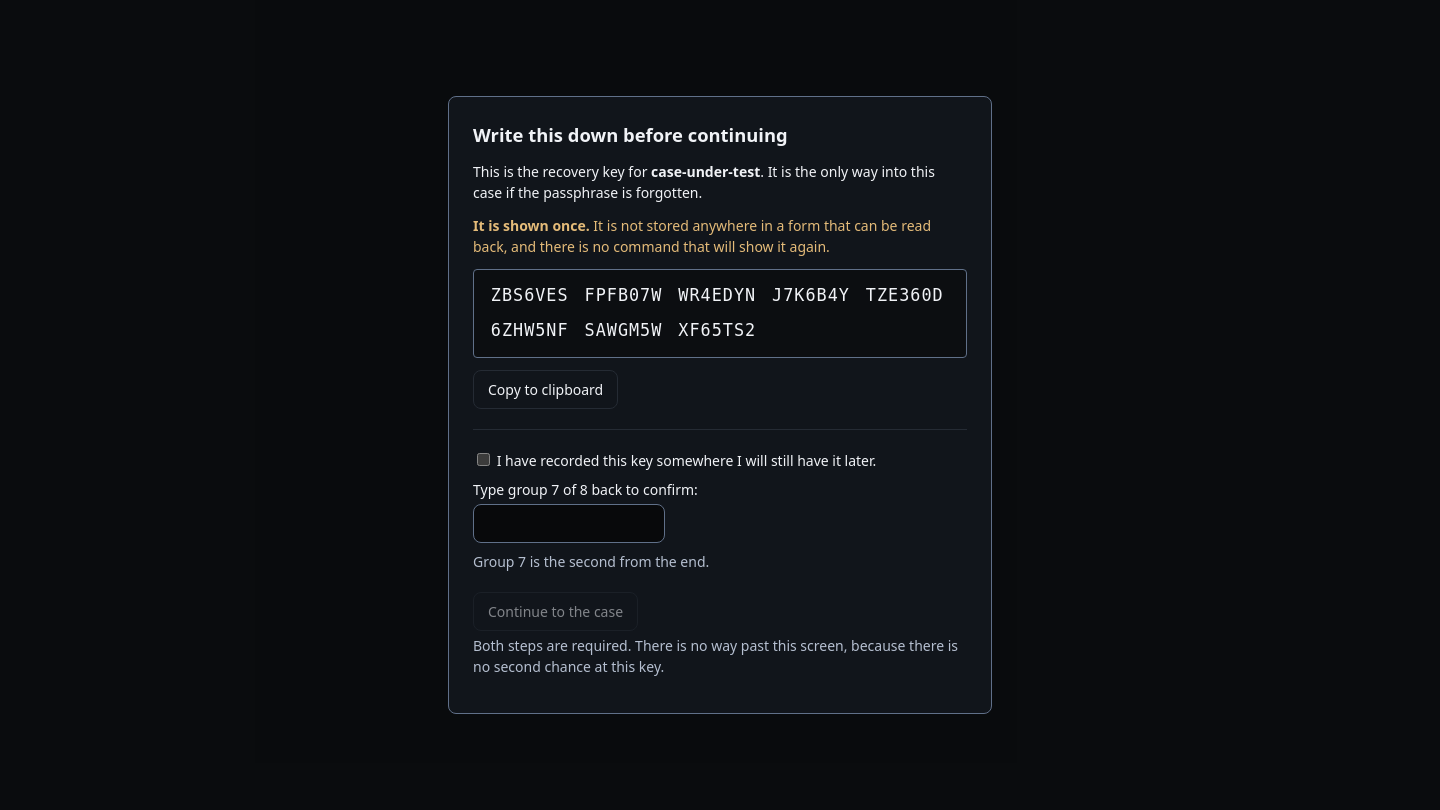
Test: the recovery key gate › accepts the group in lower case and with read-alike characters
Click the checkbox: (484, 459) [477,453,490,466]
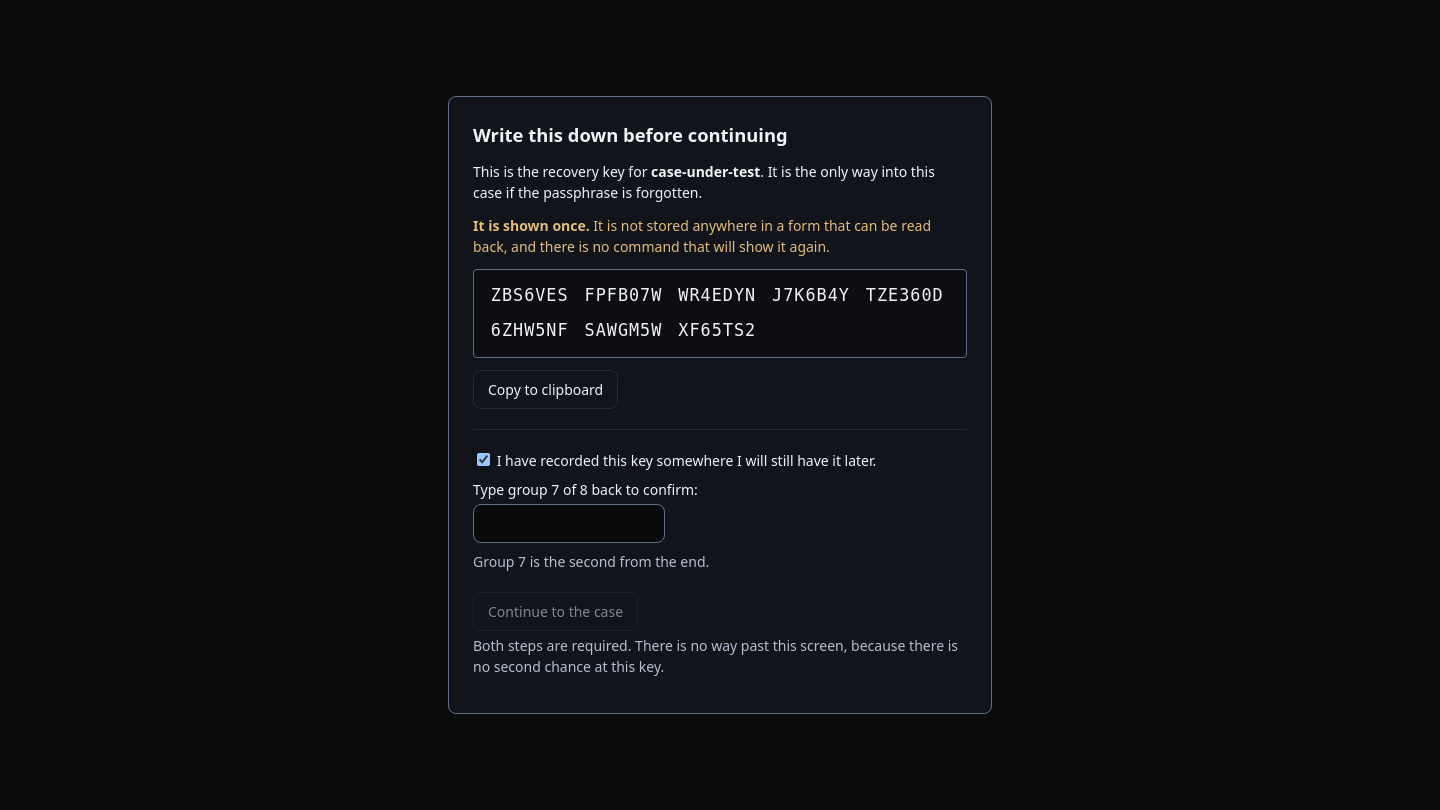
In the field labelled "Type group 7 of 8 back to confirm:": (569, 523) [473,504,665,543], type "sawgm5w"
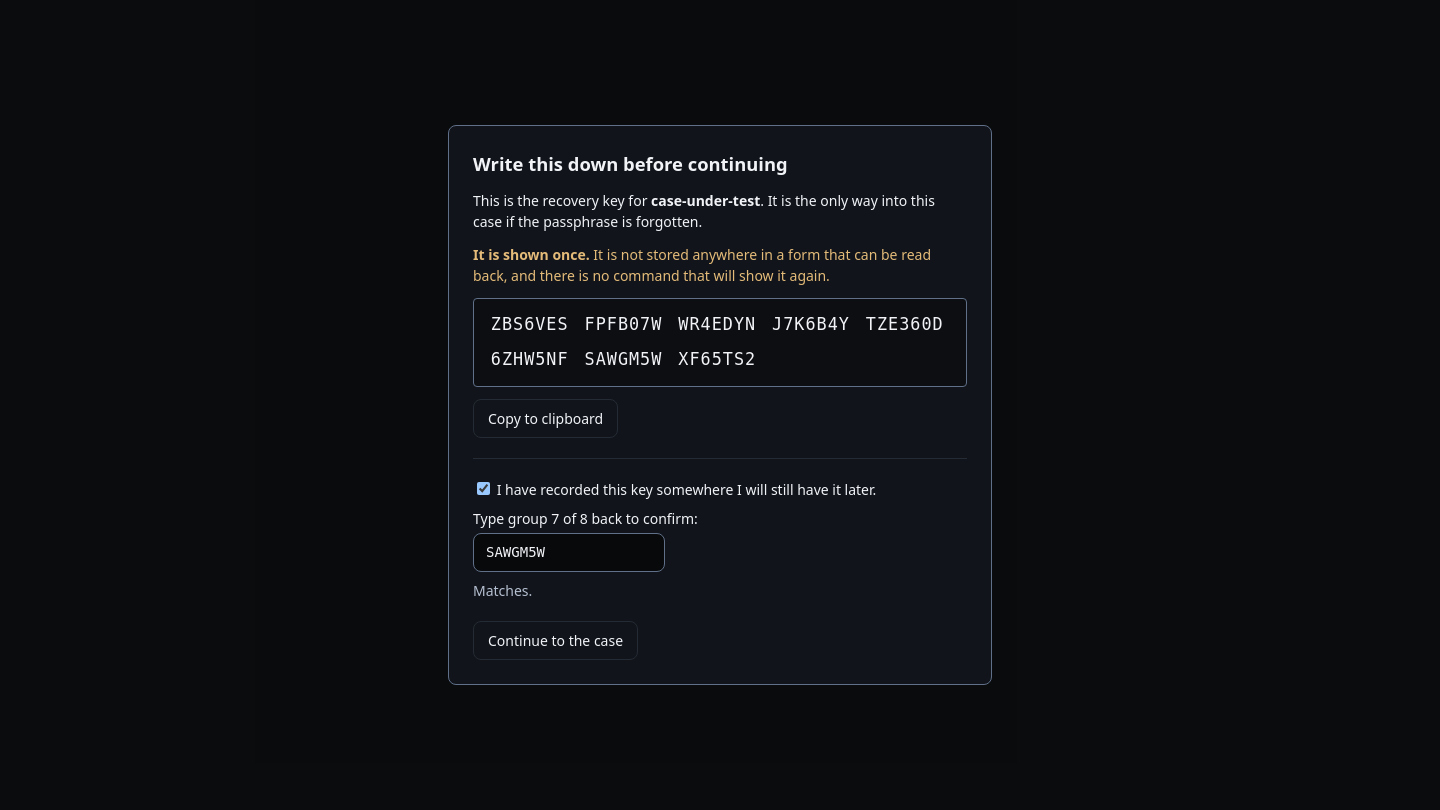
Expected: the text "Matches." is shown, [473,581,532,600]
Expected: the button with class "continue" is enabled, [473,621,638,660]
